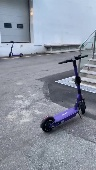beam: (41, 54, 92, 133), (7, 39, 24, 58)
